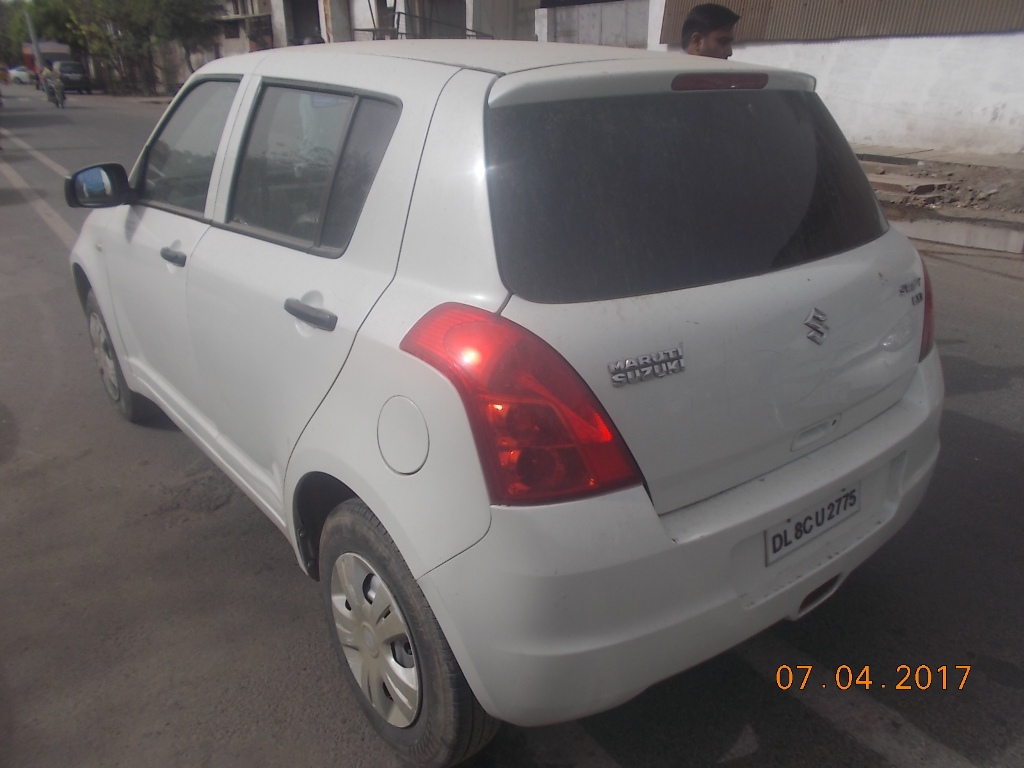Scratch_or_spot: (666, 261, 929, 322), (352, 366, 468, 412), (551, 303, 663, 345)
